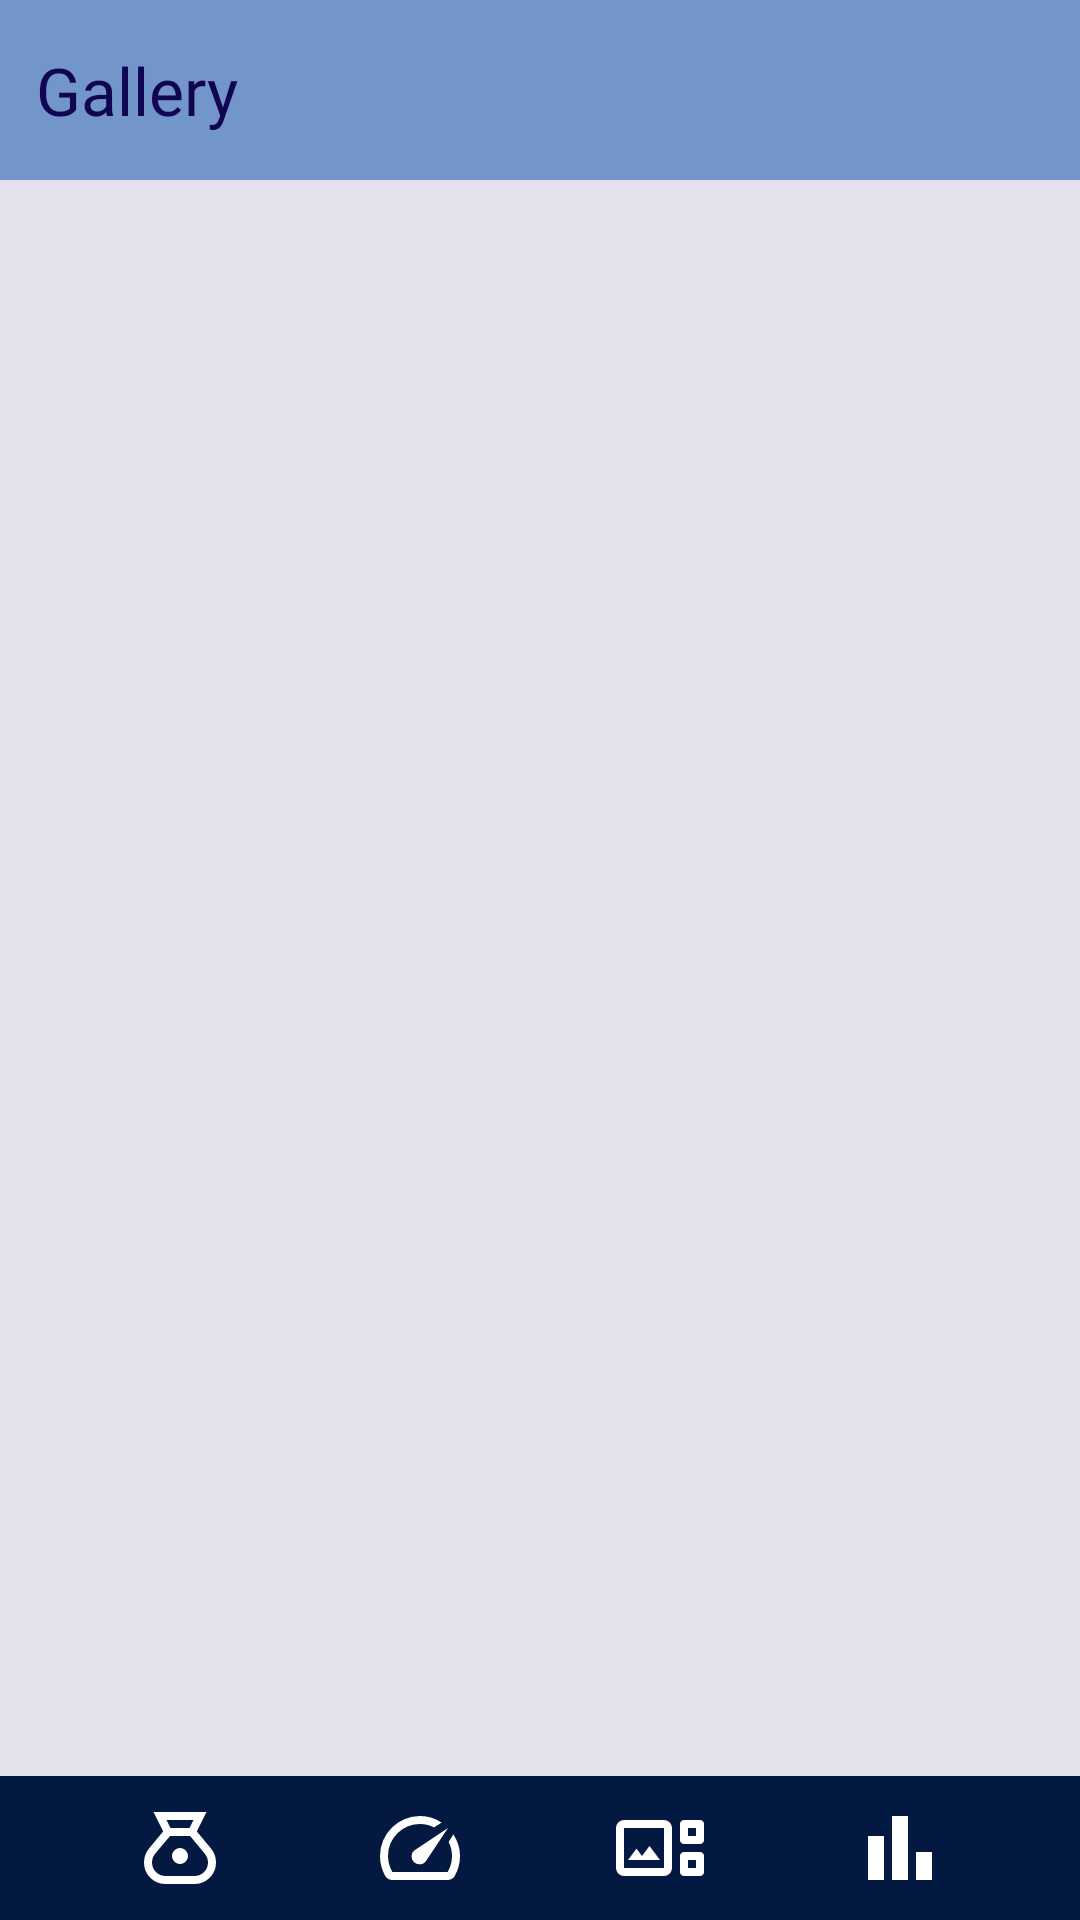

Named icons in this screenshot (1080*1920) and their centers, [x,y]:
navigationbar barchart: [900,1848]
navigationbar gallery: [660,1848]
navigationbar meter: [420,1848]
navigationbar moneybag: [180,1848]
